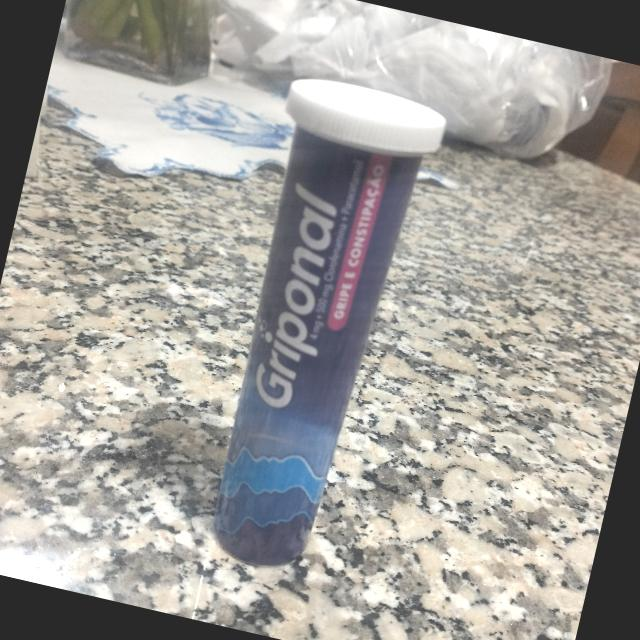tubo_efervescente: (180, 66, 454, 588)
